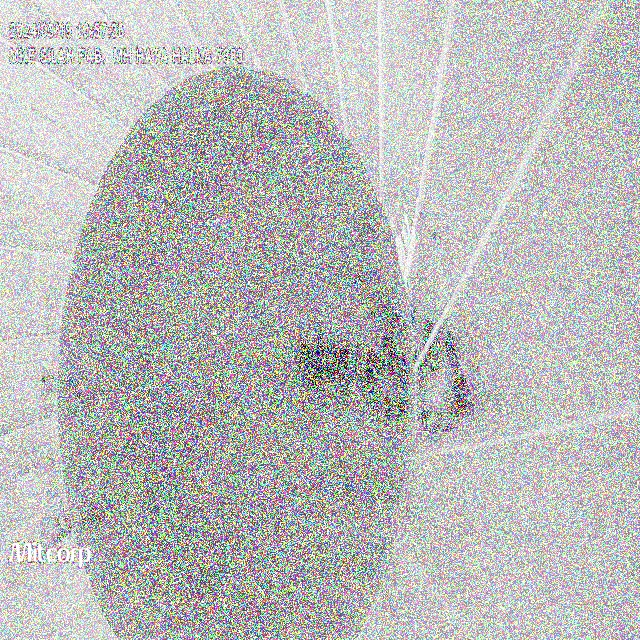hata_8.3: (386, 198, 426, 292)
